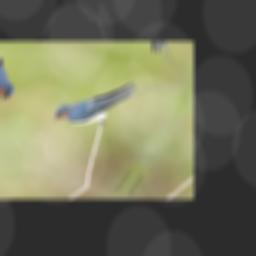Swallow: (50, 55, 163, 147)
